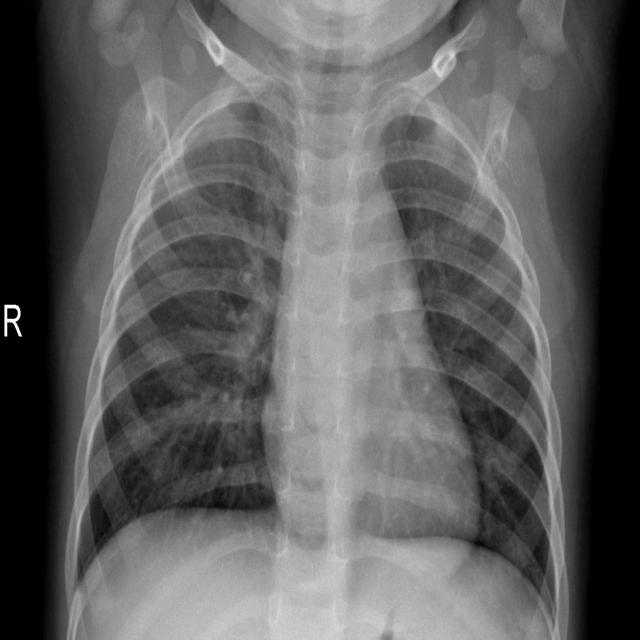normal_lung: (2, 0, 596, 640)
